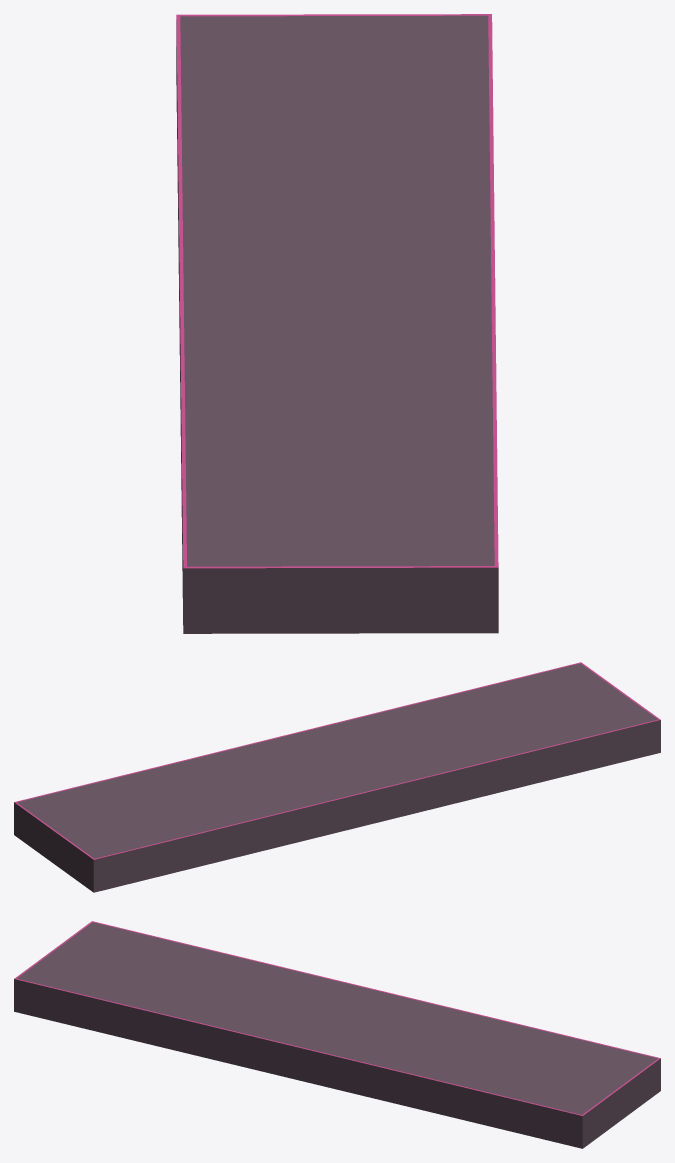
The model's file is way-641119449.glb.
3 views of the same model, one above another, from view 1: azimuth 30°, elevation 25°; view 2: azimuth 150°, elevation 25°; view 3: azimuth 270°, elevation 25° (orthographic). The views are drawn at different scales.
Parts seen in each view (by area): view 1: way-641119449; view 2: way-641119449; view 3: way-641119449.
Boxes of the visible parts, x1=… form: way-641119449: x1=176, y1=14, x2=498, y2=633; way-641119449: x1=14, y1=662, x2=660, y2=892; way-641119449: x1=14, y1=921, x2=660, y2=1148.
Bounding box in the file's own units: 38.3 × 3 × 53.68.
